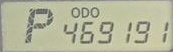1: (160, 20, 169, 44), (125, 21, 133, 44)
4: (62, 21, 78, 44)
6: (79, 21, 94, 45)
9: (96, 20, 114, 44), (133, 20, 151, 44)
X: (23, 8, 55, 44), (90, 6, 99, 18), (70, 7, 80, 17), (81, 7, 89, 18)
